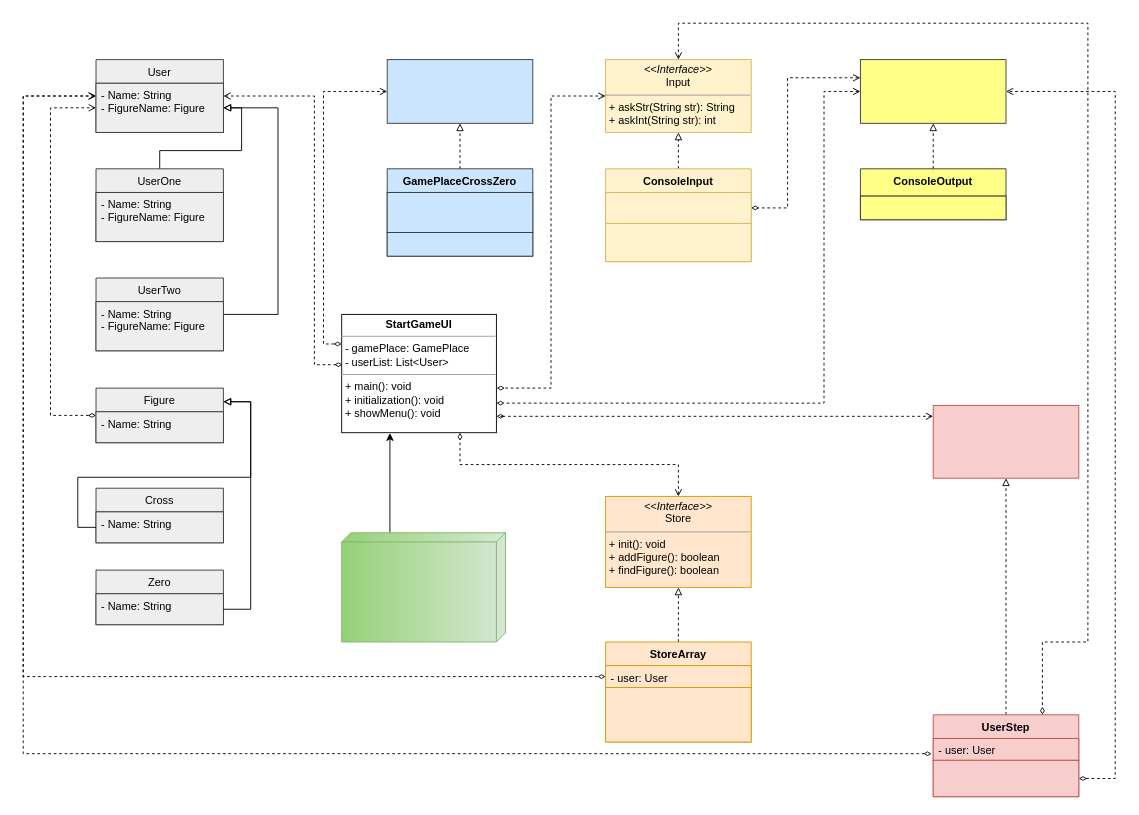
The diagram is 1139 pixels wide and 815 high, and some of its shapes have lost their labels. The centre of each missing label's shape, as x and y in pixels:
+ askStr(String str): String + askInt(String str): int: [678,242]
+ init(): void + addFigure(): boolean + findFigure(): boolean: [678,714]
+ makeGamePlace(): void: [459,244]
+ makeOutput(): void: [932,207]
+ name(): String + makeStep(): boolean: [1005,778]
- in: Input - out: Output: [678,207]
- row = 3: int - column = 3: int: [459,212]
<<Interface>> Avction + name(): String + makeStep(): boolean: [1005,441]
<<Interface>> GamePlace + makeGamePlace(): void: [459,91]
<<Interface>> Output + makeOutput(): void: [932,91]
TESTs: [423,587]
